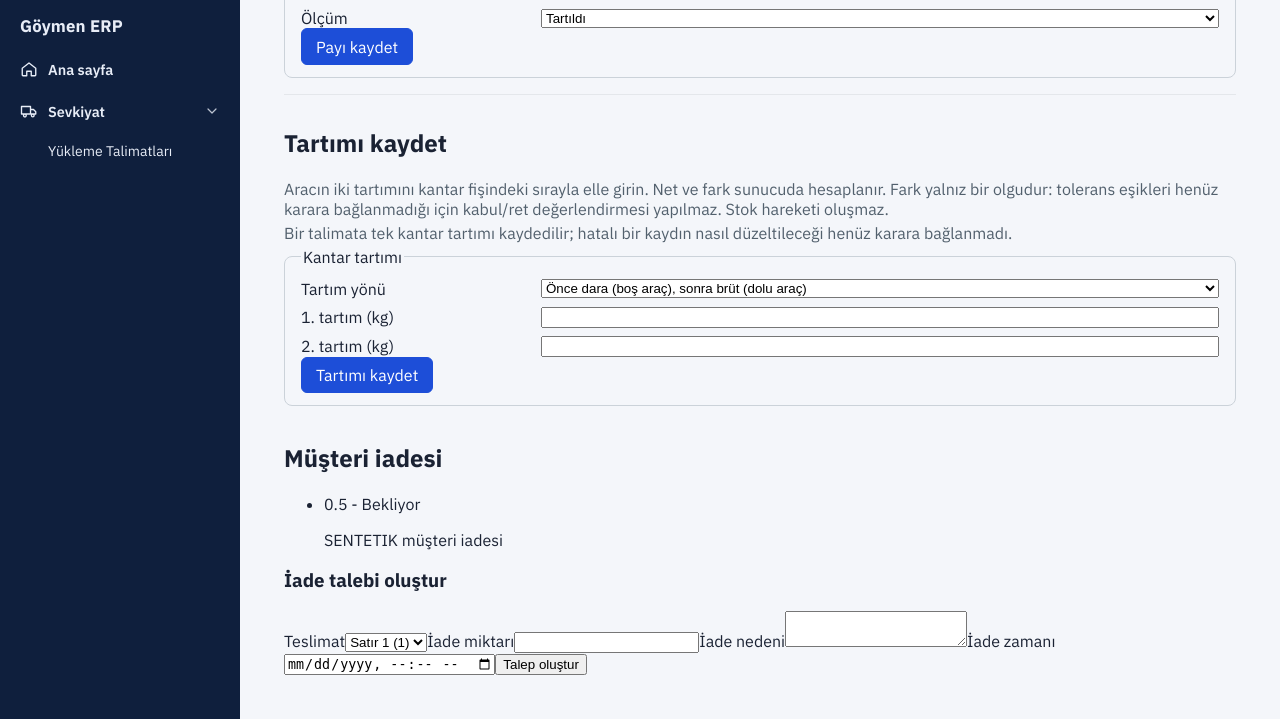
L-02-DETAIL › keeps request completion visible after the matching fresh read unlocks the next partial return
(page scrolled)
Type "0.25" into the field labelled "İade miktarı" at {"x": 607, "y": 643}, box 514,632 -> 699,653
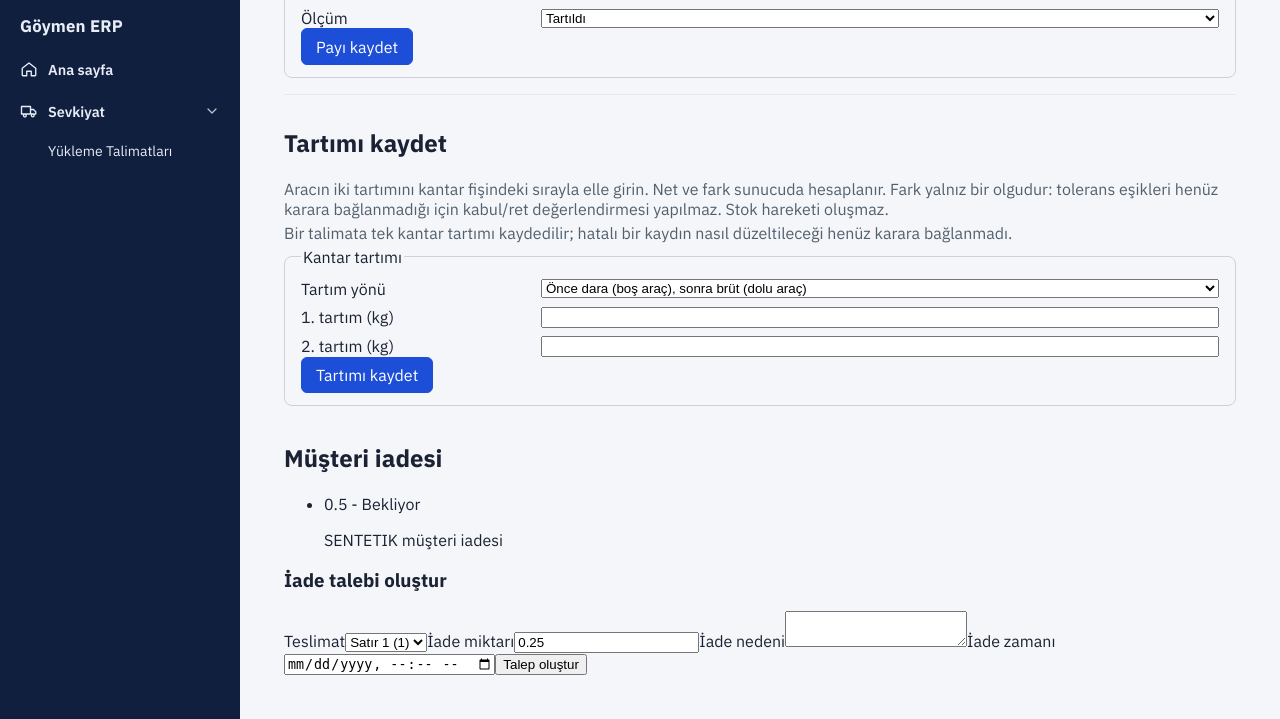
Type "İlk kısmi iade" into the text box labelled "İade nedeni" at {"x": 876, "y": 629}, box 785,611 -> 967,647
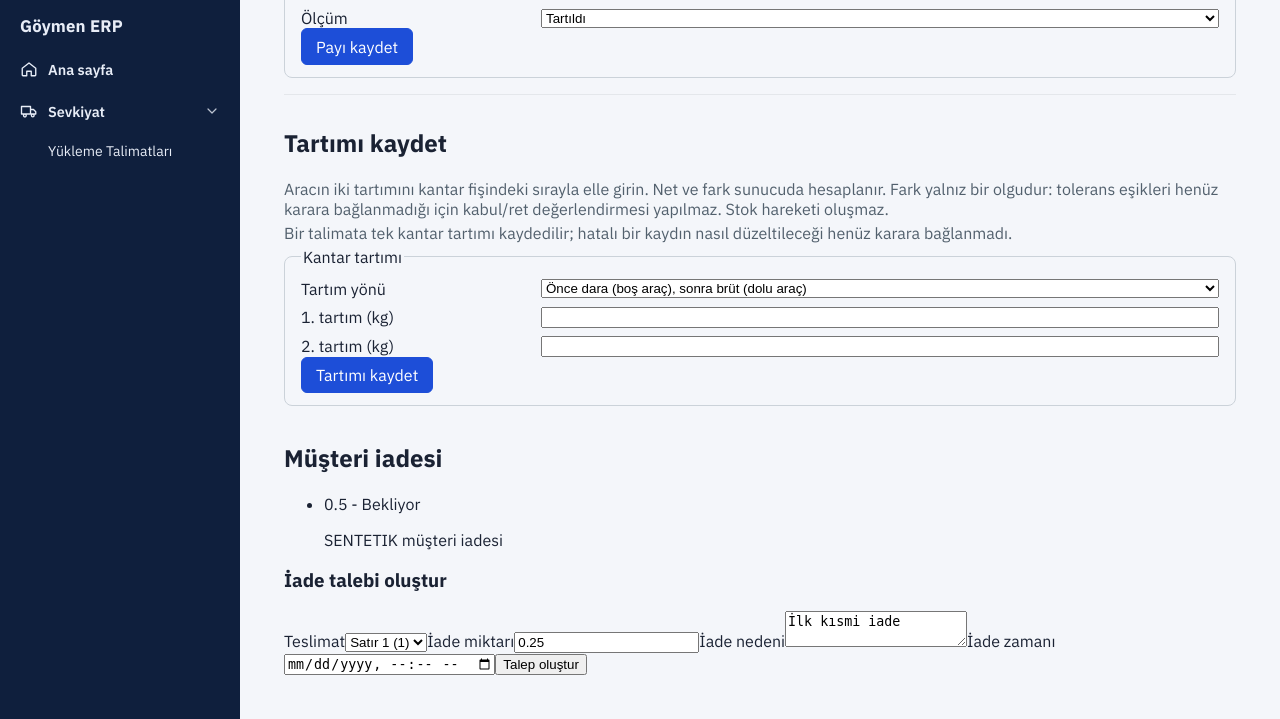
Type "2026-10-04T09:00" into the field labelled "İade zamanı" at {"x": 390, "y": 665}, box 284,654 -> 495,675
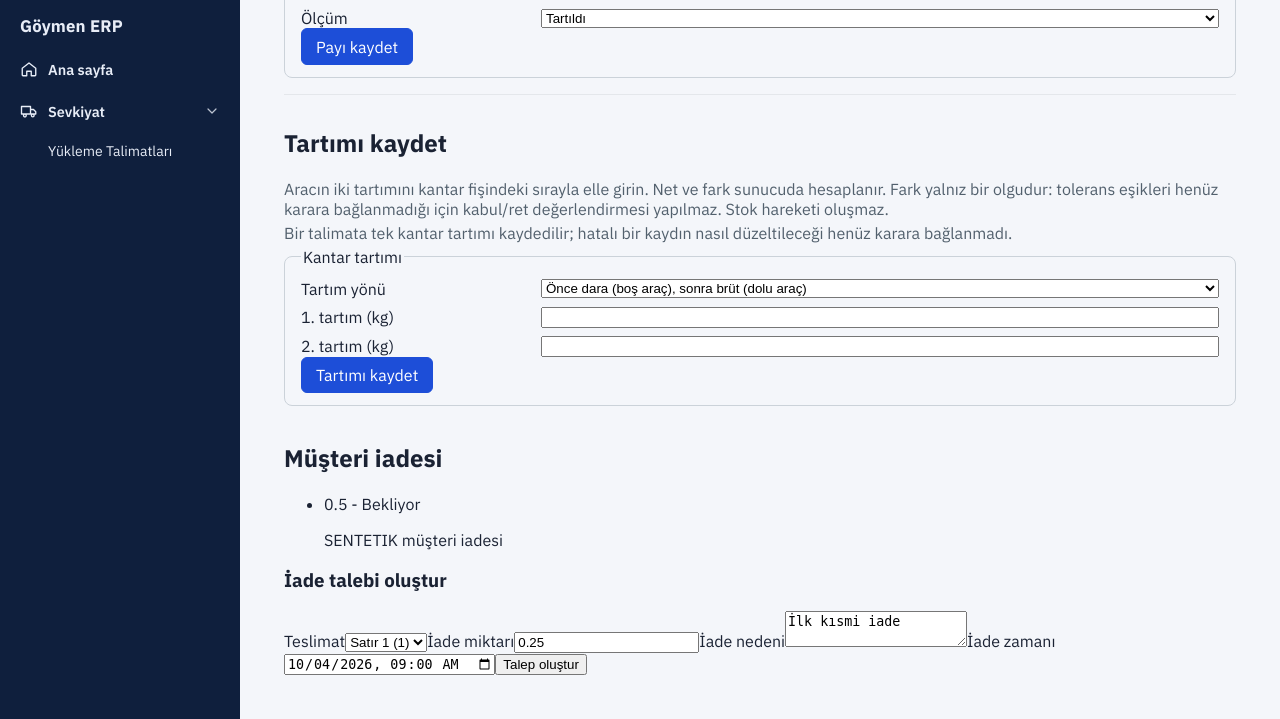
Click the button "Talep oluştur" at {"x": 541, "y": 665}, box 495,654 -> 587,675
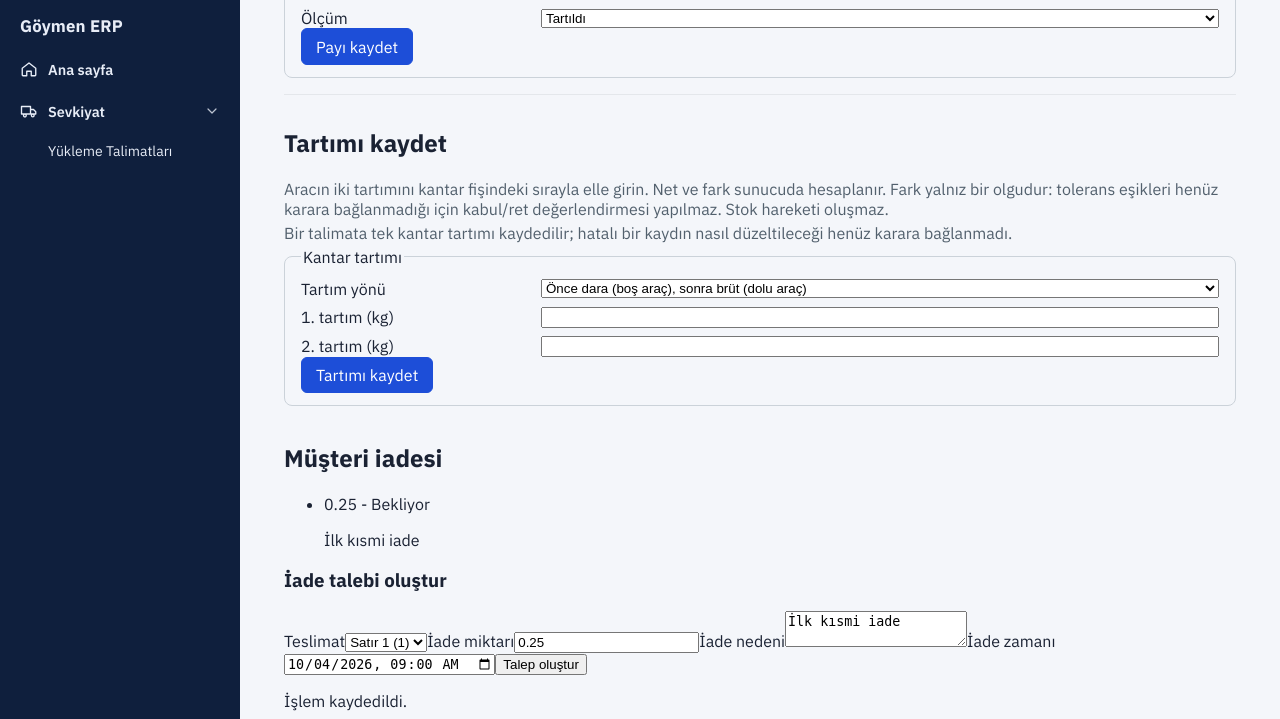
Expected: the text "İşlem kaydedildi." is shown, 284,691 -> 407,711
Click the button "Talep oluştur" at {"x": 541, "y": 665}, box 495,654 -> 587,675
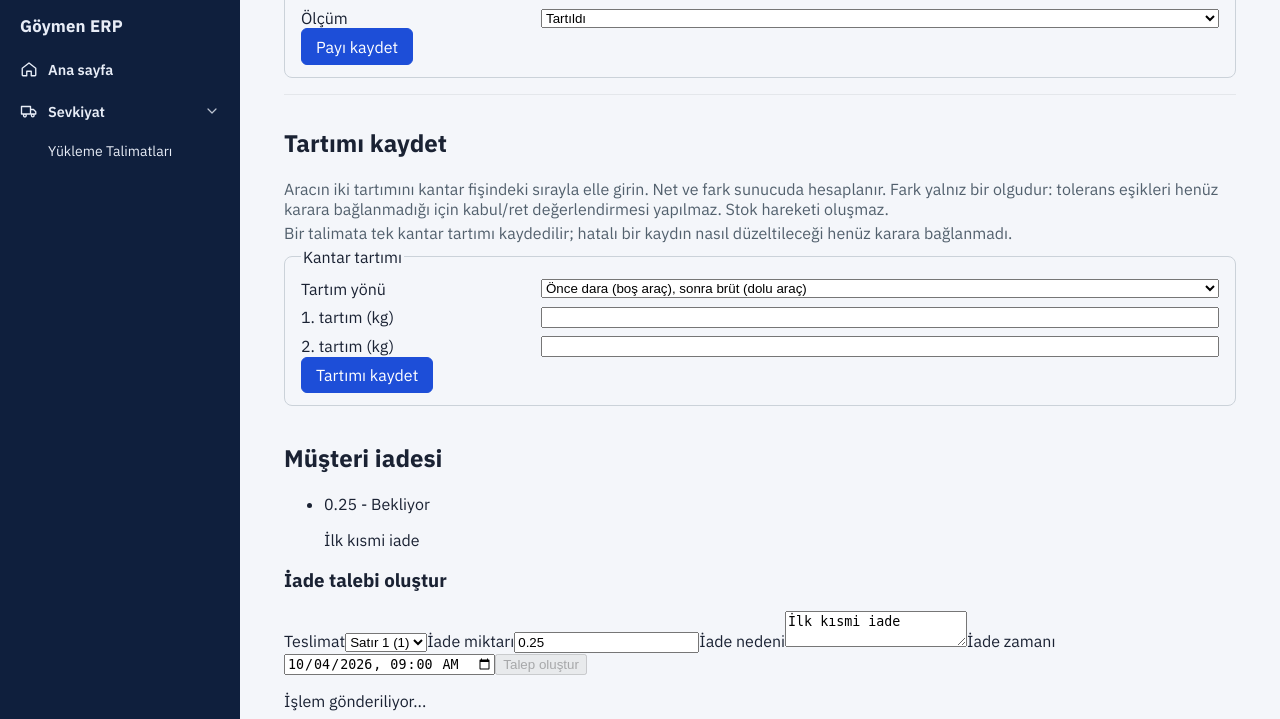
Expected: the text "İşlem kaydedildi." is gone
